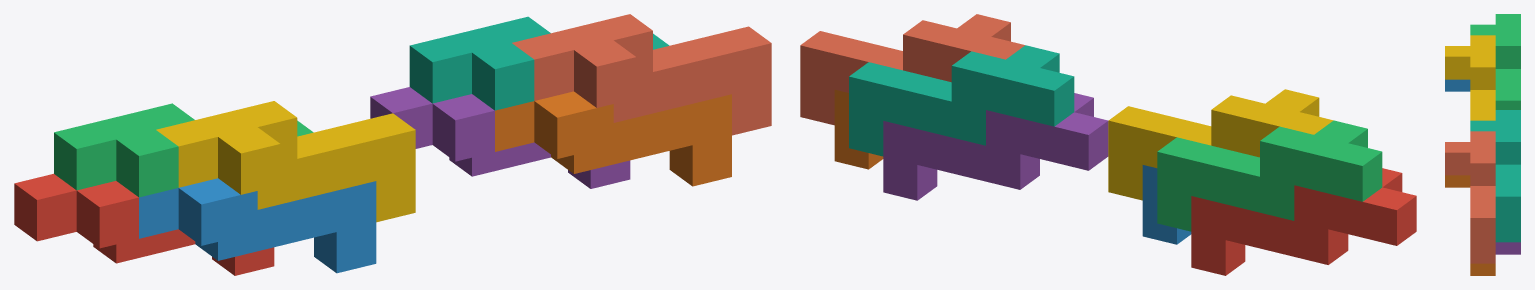
The model's file is tiling.obj.
The picture shows the model from 3 angles, left to right: view 1: azimuth 30°, elevation 25°; view 2: azimuth 150°, elevation 25°; view 3: azimuth 270°, elevation 25°; orthographic projection. The views are drawn at different scales.
Parts seen in each view (by area): view 1: copy_1_domain_4, copy_1_domain_8, copy_1_domain_2, copy_1_domain_6, copy_1_domain_1, copy_1_domain_7, copy_1_domain_3, copy_1_domain_5; view 2: copy_1_domain_3, copy_1_domain_7, copy_1_domain_1, copy_1_domain_5, copy_1_domain_4, copy_1_domain_8, copy_1_domain_2, copy_1_domain_6; view 3: copy_1_domain_8, copy_1_domain_7, copy_1_domain_4, copy_1_domain_3, copy_1_domain_6, copy_1_domain_5, copy_1_domain_2.
Boxes of the visible parts, left/top/right/bottom form: copy_1_domain_4: left=156, top=101, right=415, bottom=222; copy_1_domain_8: left=512, top=14, right=771, bottom=135; copy_1_domain_2: left=139, top=178, right=376, bottom=273; copy_1_domain_6: left=495, top=91, right=731, bottom=186; copy_1_domain_1: left=14, top=173, right=274, bottom=275; copy_1_domain_7: left=409, top=16, right=669, bottom=110; copy_1_domain_3: left=54, top=103, right=313, bottom=197; copy_1_domain_5: left=370, top=87, right=630, bottom=188; copy_1_domain_3: left=1157, top=120, right=1382, bottom=231; copy_1_domain_7: left=849, top=45, right=1074, bottom=156; copy_1_domain_1: left=1191, top=168, right=1416, bottom=275; copy_1_domain_5: left=883, top=93, right=1108, bottom=200; copy_1_domain_4: left=1108, top=89, right=1333, bottom=200; copy_1_domain_8: left=800, top=14, right=1024, bottom=125; copy_1_domain_2: left=1142, top=165, right=1191, bottom=244; copy_1_domain_6: left=834, top=89, right=883, bottom=169; copy_1_domain_8: left=1445, top=131, right=1495, bottom=263; copy_1_domain_7: left=1470, top=110, right=1520, bottom=242; copy_1_domain_4: left=1445, top=35, right=1495, bottom=120; copy_1_domain_3: left=1470, top=14, right=1520, bottom=109; copy_1_domain_6: left=1445, top=175, right=1495, bottom=275; copy_1_domain_5: left=1495, top=242, right=1520, bottom=254; copy_1_domain_2: left=1445, top=79, right=1470, bottom=91.
Size of the model in its own units: 18 by 4 by 3.
